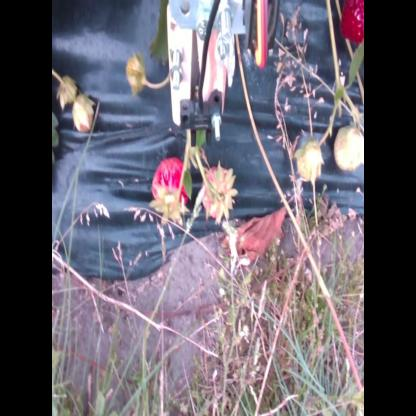ripe: (144, 153, 192, 217), (200, 166, 236, 224), (340, 0, 363, 53)
unripe: (335, 126, 365, 174), (294, 134, 321, 184), (124, 51, 148, 98), (70, 98, 96, 135), (58, 70, 80, 111)
